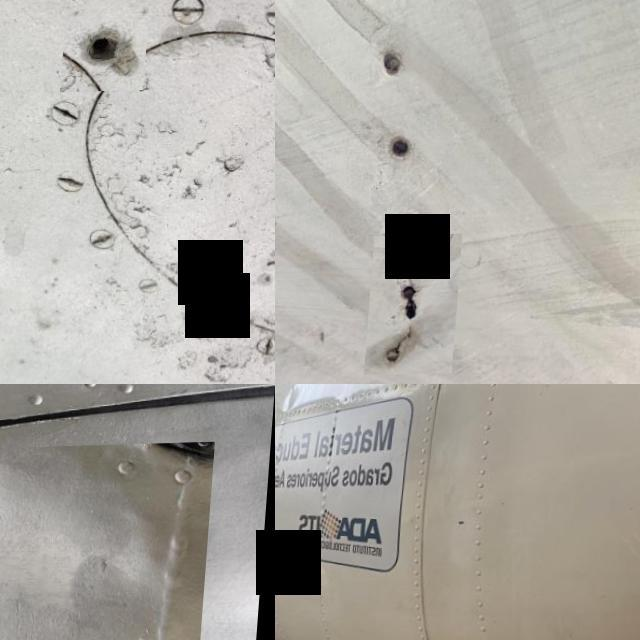Crack: (371, 236, 466, 377)
Dent: (0, 445, 218, 640)
Missing_Fastener: (65, 8, 154, 94)
